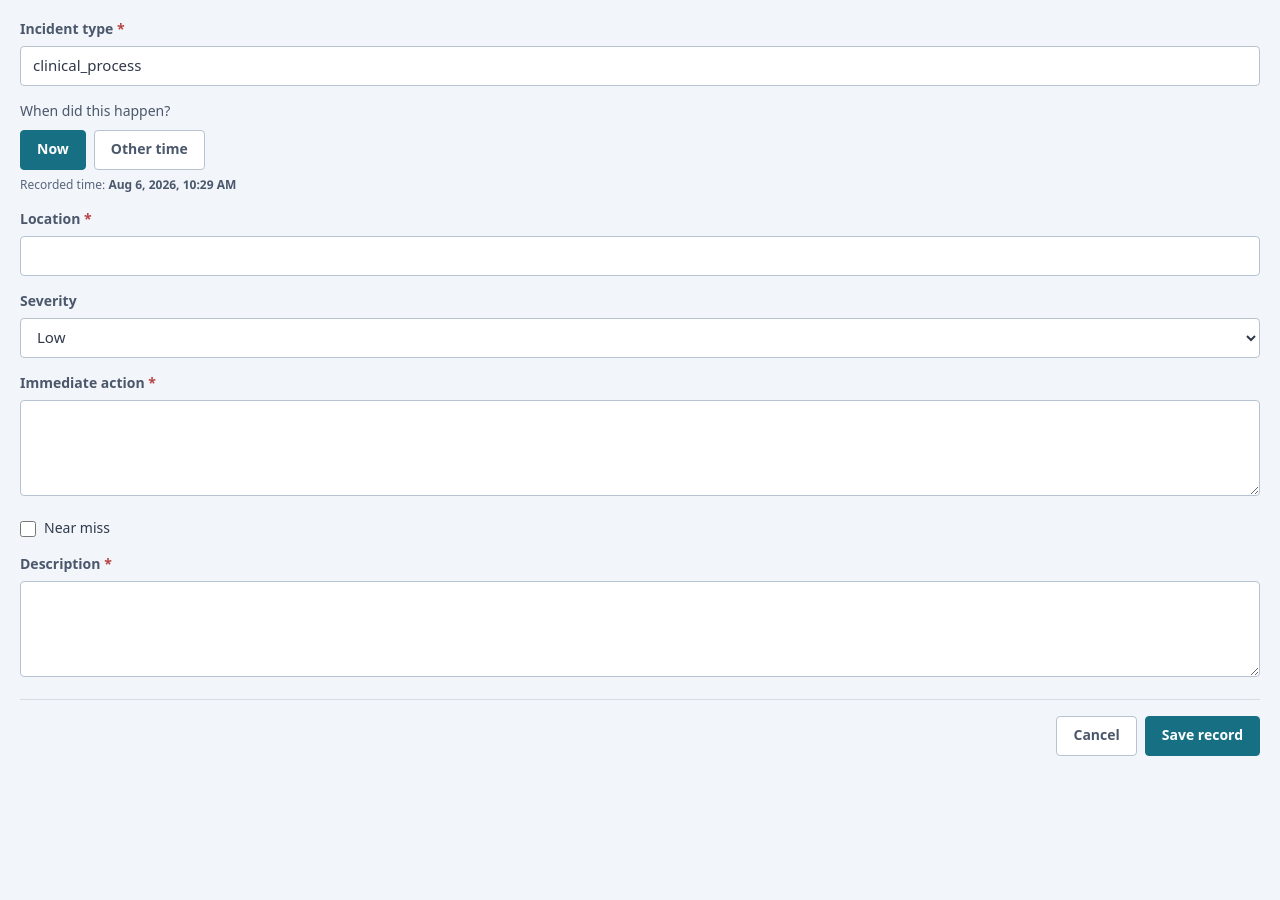
Test: QualityForm incident date and time › defaults to Now and reveals the reusable DatePicker + TimePicker only for Other time
Click the button "Other time": (149, 150) [94,130,205,170]
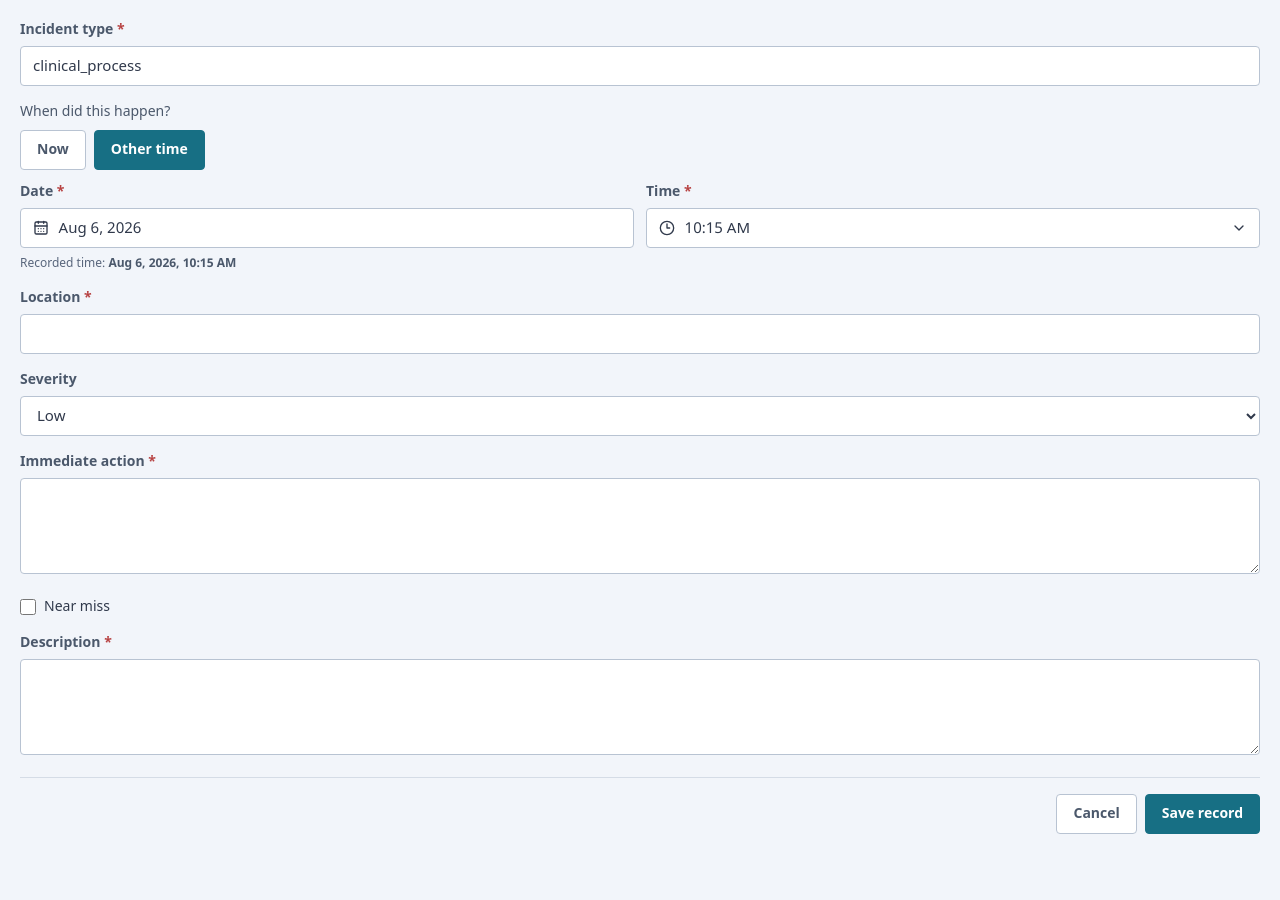
Result: the element with class "date-picker" is shown at [20,208,634,248]
Result: the button with aria-label "Incident time" is shown at [646,208,1260,248]
